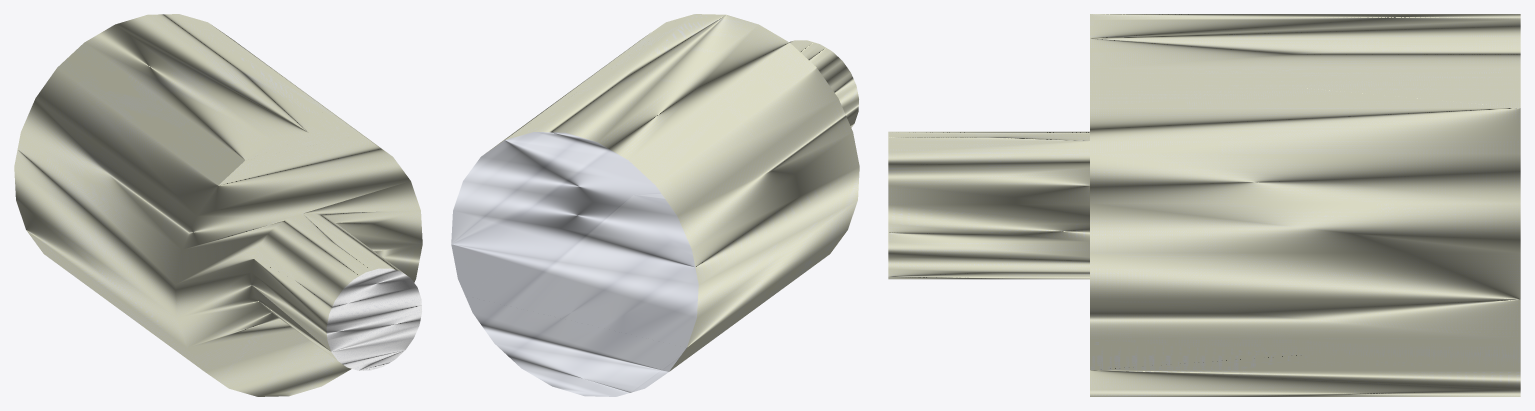
The model's file is model_align.obj.
The picture shows the model from 3 angles, left to right: view 1: azimuth 30°, elevation 25°; view 2: azimuth 150°, elevation 25°; view 3: azimuth 270°, elevation 25°; orthographic projection. The views are drawn at different scales.
Bounding box in the file's own units: 0.1284 × 0.1284 × 0.2125.
